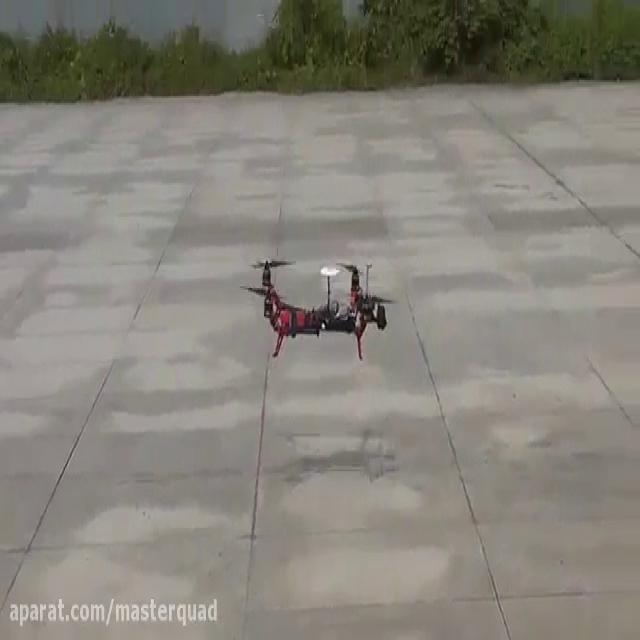drone: (238, 247, 401, 365)
